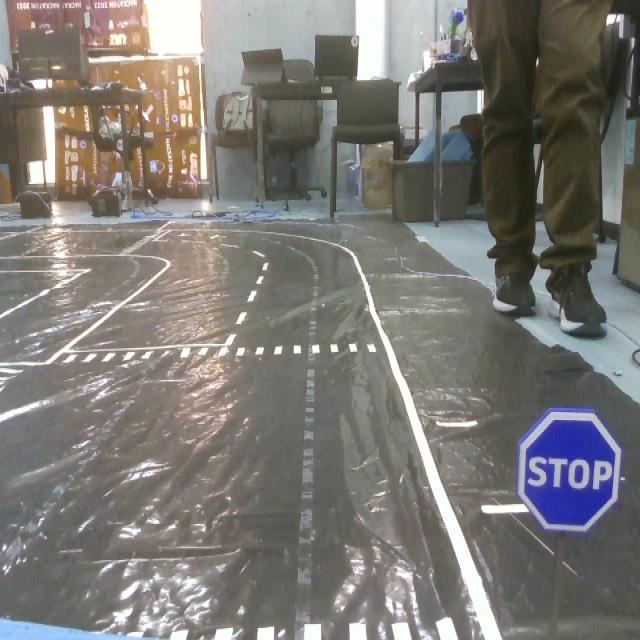no_entry: (515, 405, 622, 540)
